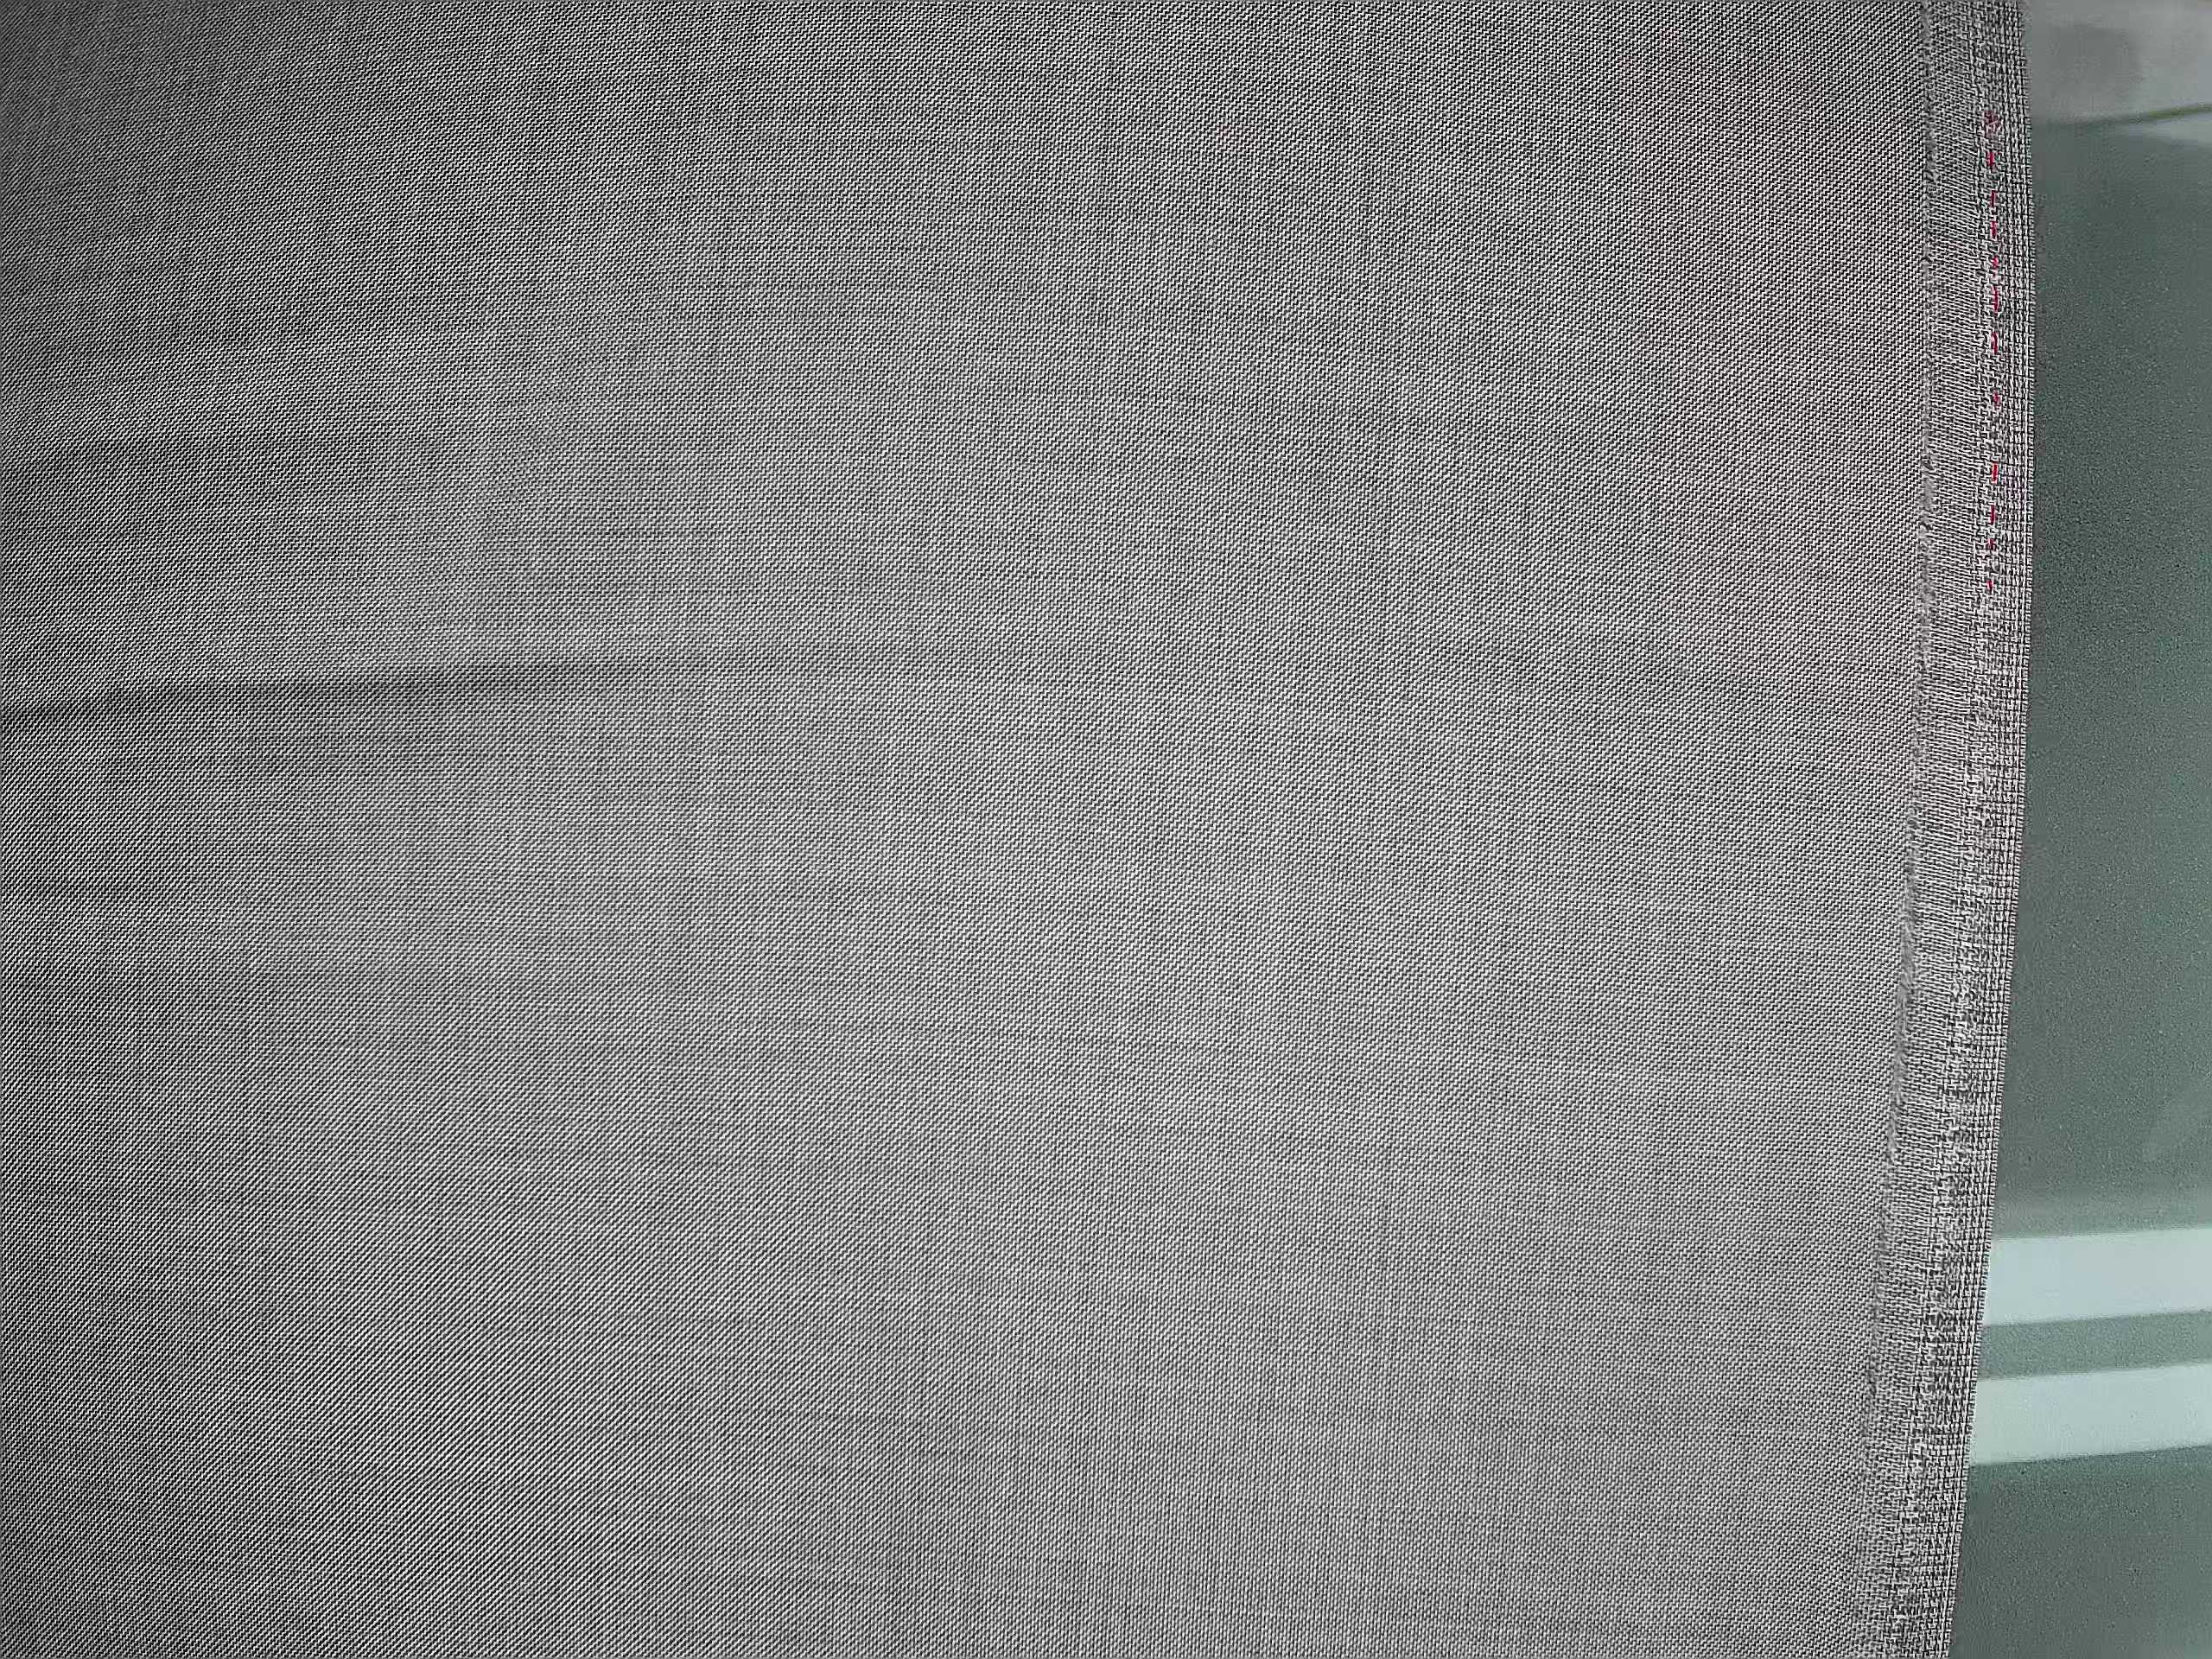others: (1851, 19, 1951, 1476)
